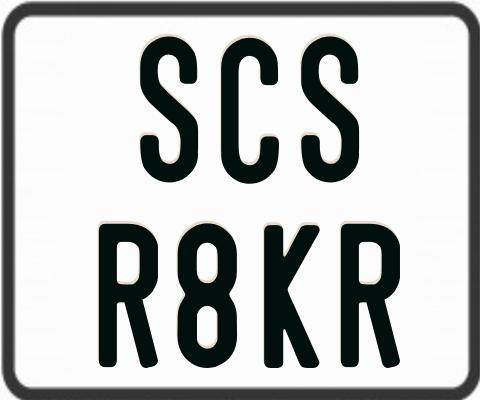8: (176, 220, 239, 365)
C: (221, 37, 285, 186)
K: (264, 225, 322, 373)
R: (98, 221, 162, 369), (340, 221, 403, 368)
S: (300, 34, 361, 184), (137, 36, 197, 187)
